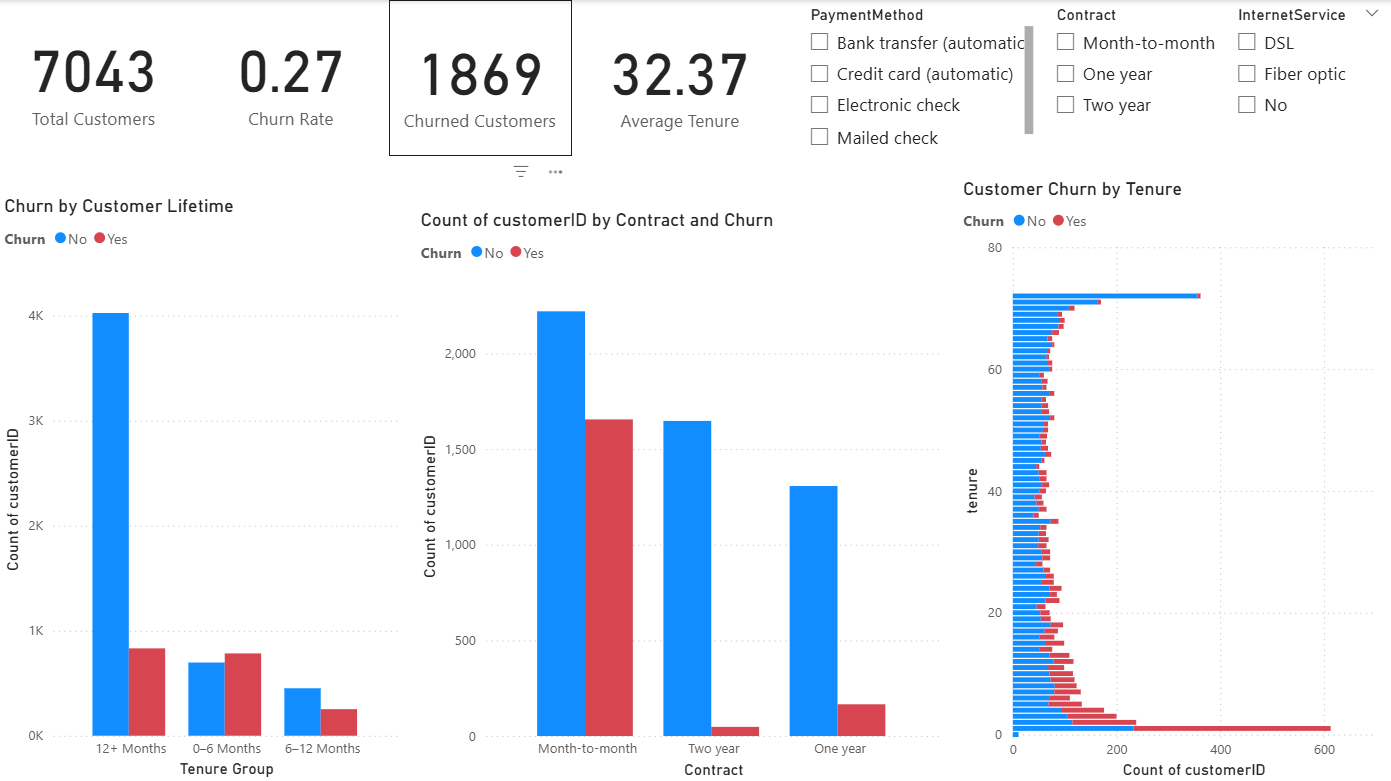

The dashboard page shown, as its layout file describes it:
{"tool":"powerbi","page":{"name":"Page 1","canvas":[1280,720],"ordinal":0},"visuals":[{"type":"card","fields":{"Values":["Telco.Total Customers"]},"box":[0,0,174.3,140],"z":0},{"type":"card","fields":{"Values":["Telco.Churned Customers"]},"box":[358.1,0,167.4,144.1],"z":1000},{"type":"card","fields":{"Values":["Telco.Churn Rate"]},"box":[182.5,0,171.5,140],"z":2000},{"type":"card","fields":{"Values":["Telco.Average Tenure"]},"box":[542,0,167.4,144.1],"z":3000},{"type":"clusteredColumnChart","title":"Churn by Customer Lifetime","fields":{"Category":["Telco.Tenure Group"],"Y":["CountNonNull(Telco.customerID)"],"Series":["Telco.Churn"]},"box":[0,179.8,373.2,540.7],"z":4000},{"type":"slicer","fields":{"Values":["Telco.Contract"]},"box":[959.2,0,166,140],"z":5000},{"type":"slicer","fields":{"Values":["Telco.InternetService"]},"box":[1125.2,0,155.1,140],"z":6000},{"type":"slicer","fields":{"Values":["Telco.PaymentMethod"]},"box":[732.8,0,222.3,140],"z":7000},{"type":"clusteredColumnChart","fields":{"Category":["Telco.Contract"],"Y":["CountNonNull(Telco.customerID)"],"Series":["Telco.Churn"]},"box":[382.8,192.1,488.5,528.3],"z":8000},{"type":"barChart","title":"Customer Churn by Tenure","fields":{"Category":["Telco.tenure"],"Y":["CountNonNull(Telco.customerID)"],"Series":["Telco.Churn"]},"box":[881,163.3,399.3,557.1],"z":9000}]}

Visuals, with their boxes in screenshot pixels (x1, y1, x2, y2), scaled from the page's 1280x720 canvas onto the 1391x781 screenshot:
card - Telco.Total Customers: {"x1": 0, "y1": 0, "x2": 189, "y2": 152}
card - Telco.Churned Customers: {"x1": 389, "y1": 0, "x2": 571, "y2": 156}
card - Telco.Churn Rate: {"x1": 198, "y1": 0, "x2": 385, "y2": 152}
card - Telco.Average Tenure: {"x1": 589, "y1": 0, "x2": 771, "y2": 156}
"Churn by Customer Lifetime" clusteredColumnChart: {"x1": 0, "y1": 195, "x2": 406, "y2": 780}
slicer - Telco.Contract: {"x1": 1042, "y1": 0, "x2": 1223, "y2": 152}
slicer - Telco.InternetService: {"x1": 1223, "y1": 0, "x2": 1390, "y2": 152}
slicer - Telco.PaymentMethod: {"x1": 796, "y1": 0, "x2": 1038, "y2": 152}
clusteredColumnChart - Telco.Contract x CountNonNull(Telco.customerID): {"x1": 416, "y1": 208, "x2": 947, "y2": 780}
"Customer Churn by Tenure" barChart: {"x1": 957, "y1": 177, "x2": 1390, "y2": 780}
